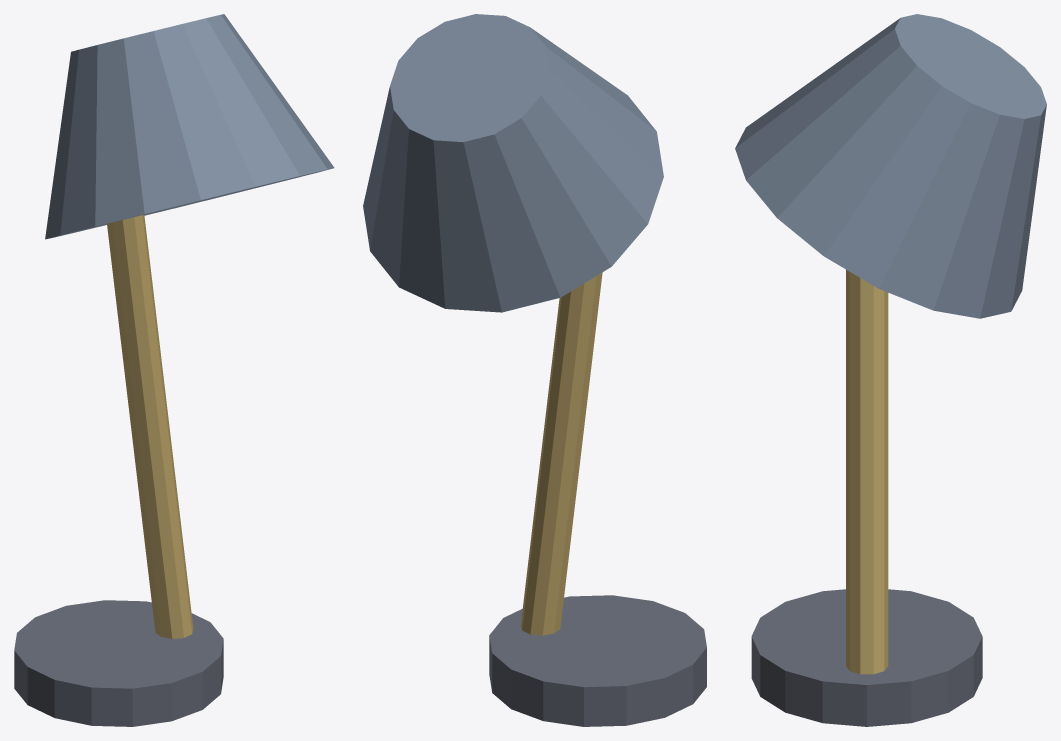
Rendered from office_luminaria_mesa_sala.glb.
The picture shows the model from 3 angles, left to right: view 1: azimuth 30°, elevation 25°; view 2: azimuth 150°, elevation 25°; view 3: azimuth 270°, elevation 25°; orthographic projection. The views are drawn at different scales.
Visible parts, largest first — view 1: OFFICE_LuminariaMesaSala_Cupula, OFFICE_LuminariaMesaSala_Base, OFFICE_LuminariaMesaSala_Haste; view 2: OFFICE_LuminariaMesaSala_Cupula, OFFICE_LuminariaMesaSala_Base, OFFICE_LuminariaMesaSala_Haste; view 3: OFFICE_LuminariaMesaSala_Cupula, OFFICE_LuminariaMesaSala_Base, OFFICE_LuminariaMesaSala_Haste.
Part boxes in pixels (x1,y1,x2,y2): OFFICE_LuminariaMesaSala_Cupula: (45, 14, 334, 239); OFFICE_LuminariaMesaSala_Base: (14, 600, 223, 726); OFFICE_LuminariaMesaSala_Haste: (107, 215, 193, 638); OFFICE_LuminariaMesaSala_Cupula: (363, 14, 663, 312); OFFICE_LuminariaMesaSala_Base: (489, 595, 706, 726); OFFICE_LuminariaMesaSala_Haste: (520, 272, 602, 635); OFFICE_LuminariaMesaSala_Cupula: (735, 14, 1046, 318); OFFICE_LuminariaMesaSala_Base: (751, 589, 982, 726); OFFICE_LuminariaMesaSala_Haste: (846, 269, 888, 674).
Bounding box in the file's own units: 0.195 × 0.3955 × 0.162.
